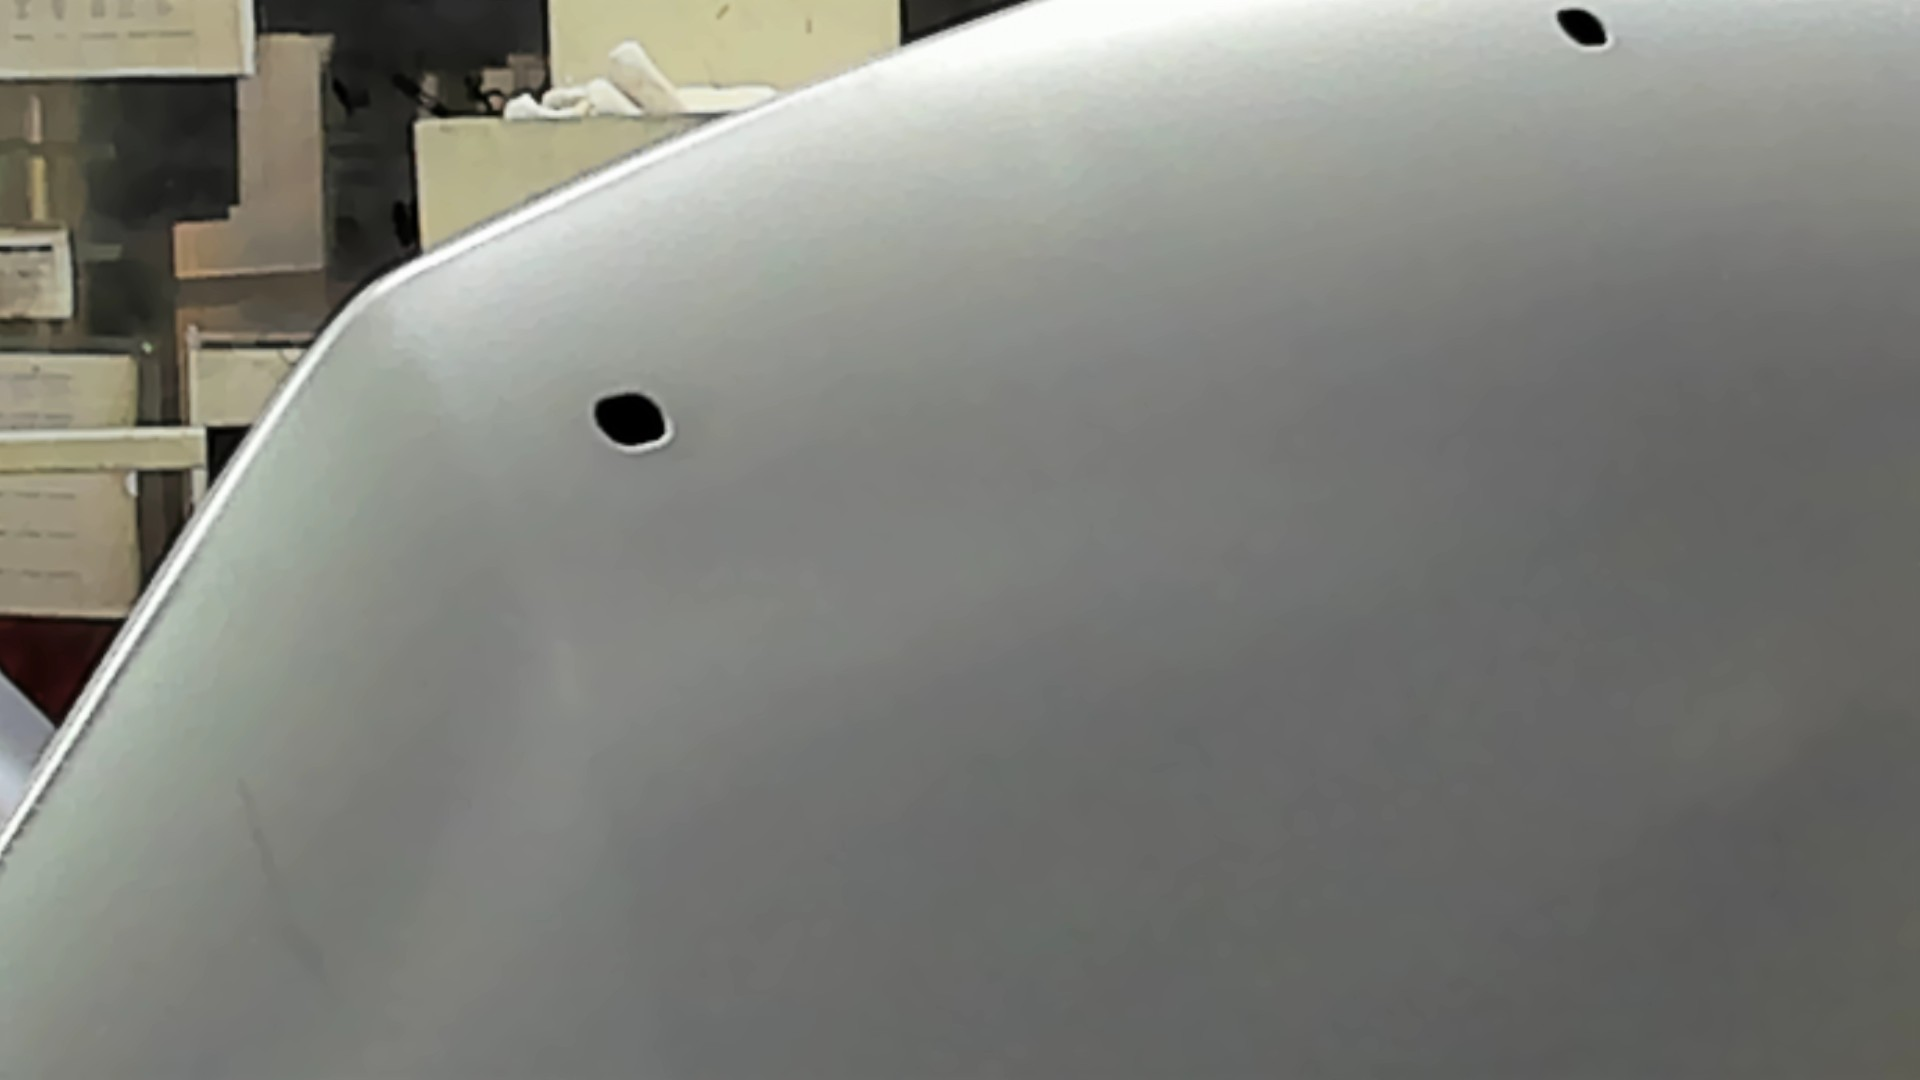amorfo: (582, 386, 675, 462), (1548, 4, 1618, 63)
